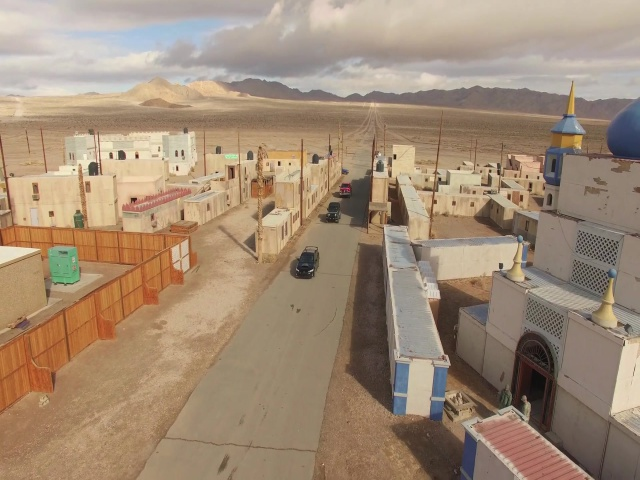vehicle: (294, 246, 321, 278), (324, 202, 342, 225), (338, 181, 351, 198)
